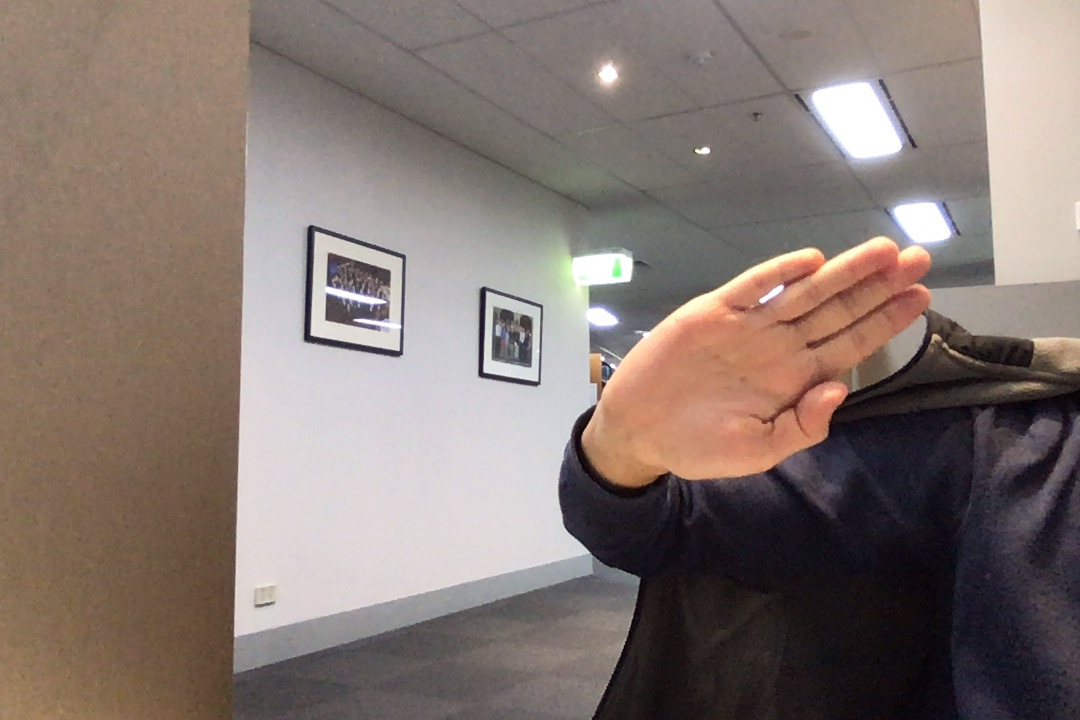palmhand: (594, 229, 940, 494)
